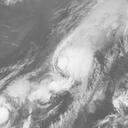cyclone: (38, 44, 87, 93)
